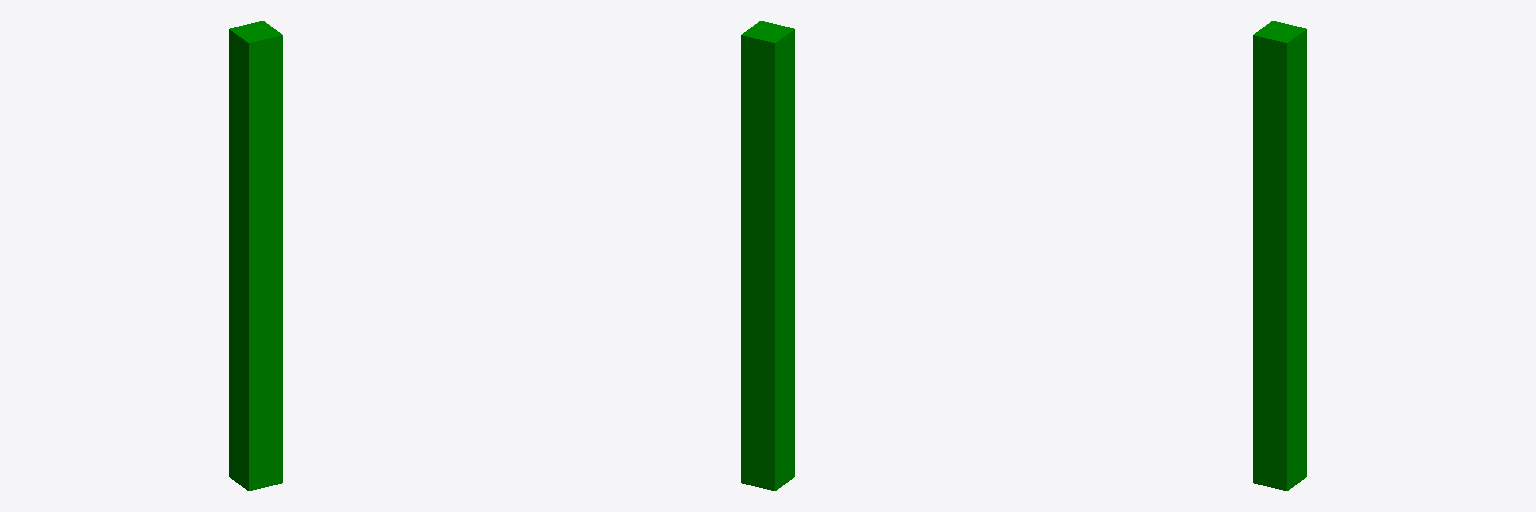
robot.urdf — tree_two:
<?xml version="1.0" ?>
<robot name="tree_two">
    <link name="block">
    <inertial>
      <origin xyz="0 0 0" rpy="0 0 0"/>
      <mass value="0.0"/>
      <inertia ixx="1" ixy="0" ixz="0" iyy="1" iyz="0" izz="1"/>
    </inertial>
    <!-- Visual representation of the cube (0.3m x 0.3m x 0.3m) -->
    <visual>
      <origin xyz="0 0 0" rpy="0 0 0"/>
      <geometry>
        <box size="0.4 0.4 5.0"/>
      </geometry>
      <material name="green">
        <color rgba="0 0.6 0 1"/>
      </material>
    </visual>
    <!-- Collision representation of the cube (0.3m x 0.3m x 0.3m) -->
    <collision>
      <origin xyz="0 0 0" rpy="0 0 0"/>
      <geometry>
        <box size="0.4 0.4 5.0"/>
      </geometry>
    </collision>    
    <!-- Contact properties (optional, e.g., friction) --> 
    <contact>
      <lateral_friction value="1.0"/>
      <rolling_friction value="0.0"/>
      <restitution value="0.0"/>
    </contact>
  </link>
</robot>  

--- Render facts (derived) ---
The picture shows the robot from 3 angles, left to right: view 1: azimuth 30°, elevation 25°; view 2: azimuth 150°, elevation 25°; view 3: azimuth 330°, elevation 25°; orthographic projection.
Model tree_two with 1 links and 0 joints (none), rooted at block, posed all joints at 0.
Links seen in each view (by area): view 1: block; view 2: block; view 3: block.
Link boxes in pixels (x1,y1,x2,y2): block: [229, 21, 282, 490]; block: [741, 21, 794, 490]; block: [1253, 21, 1306, 490].
Size in the robot's own frame: 0.4 by 0.4 by 5 metres.
Geometry: primitives only (box / cylinder / sphere), no mesh files.